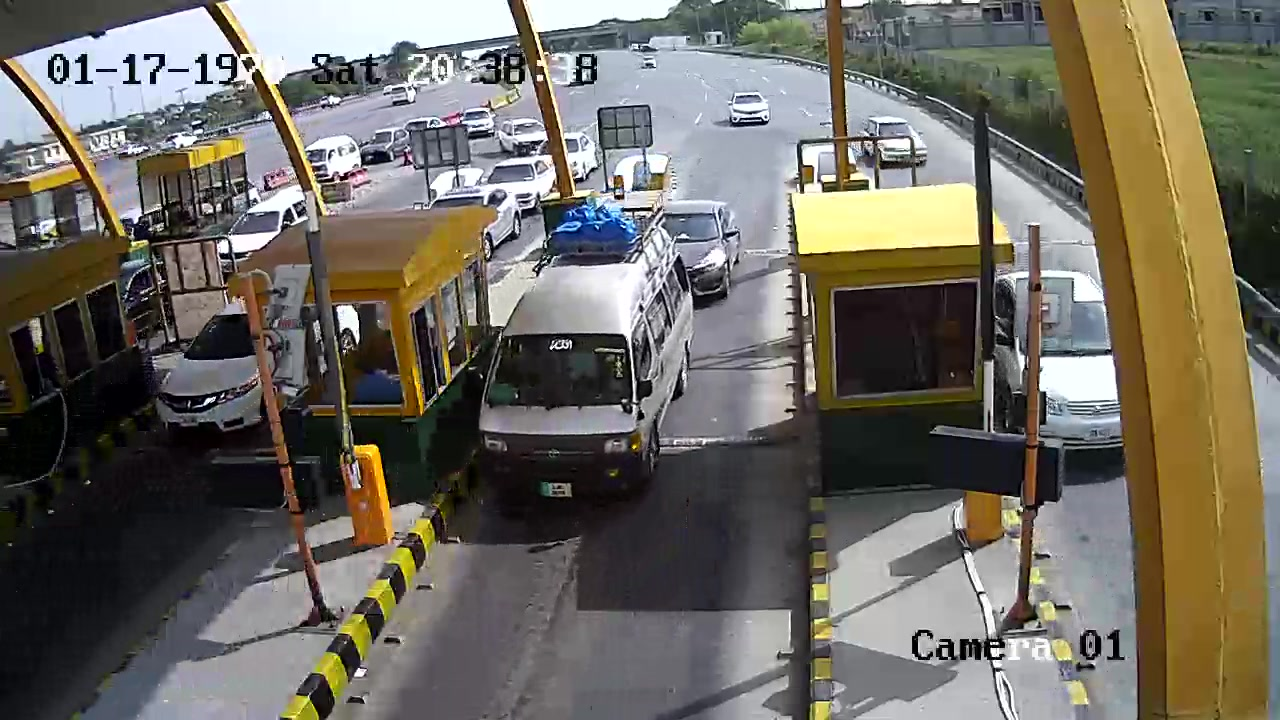F2: (469, 192, 696, 520)
